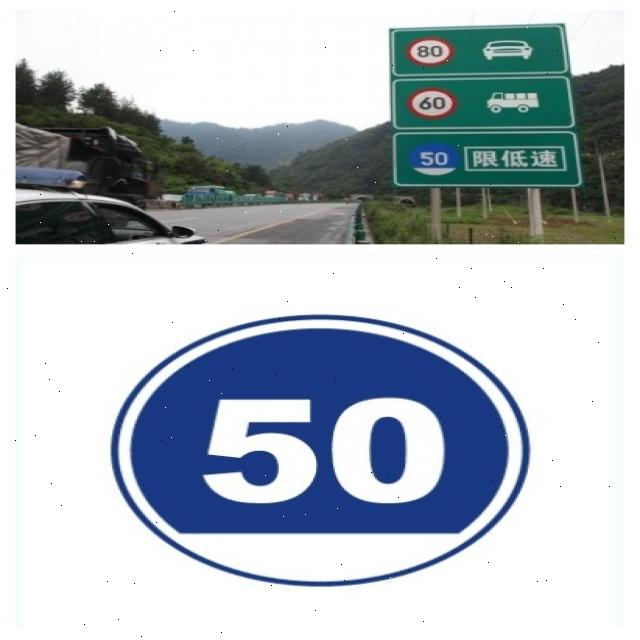speed limit 50: (110, 313, 532, 589), (409, 144, 464, 178)
speed limit 60: (407, 87, 455, 120), (408, 38, 454, 67)
